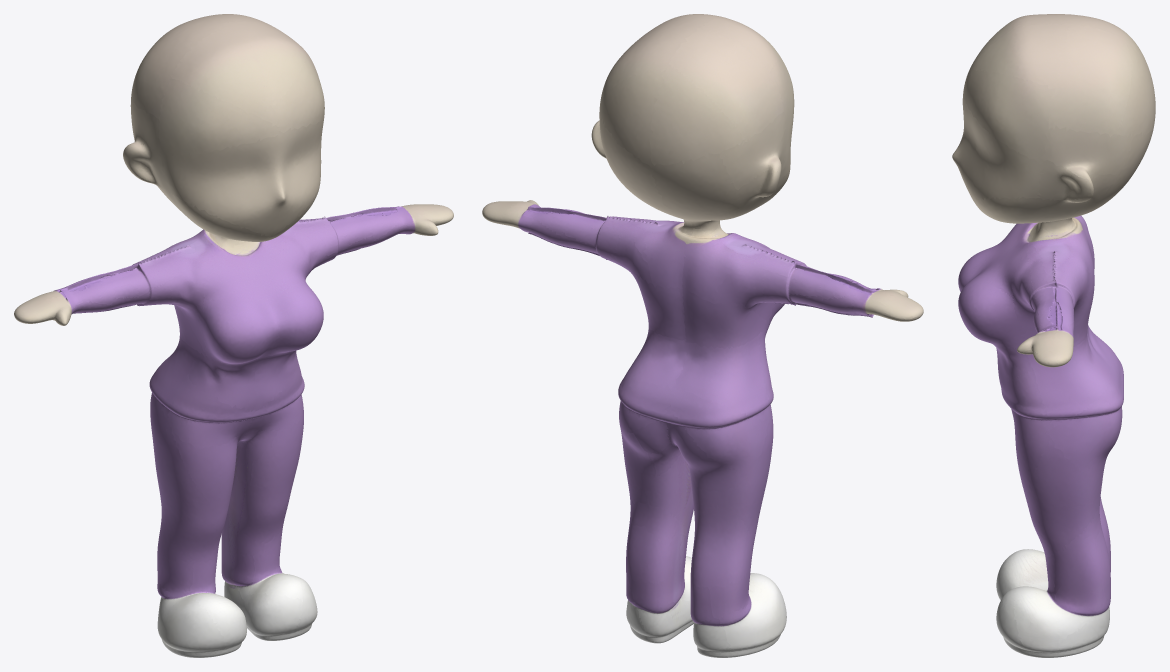
The model's file is baked_outfit_pajama.glb.
The picture shows the model from 3 angles, left to right: view 1: azimuth 30°, elevation 25°; view 2: azimuth 150°, elevation 25°; view 3: azimuth 270°, elevation 25°; orthographic projection.
Bounding box in the file's own units: 1.43 × 1.9 × 0.5811.
Materials: 1 (1 with a texture image).
